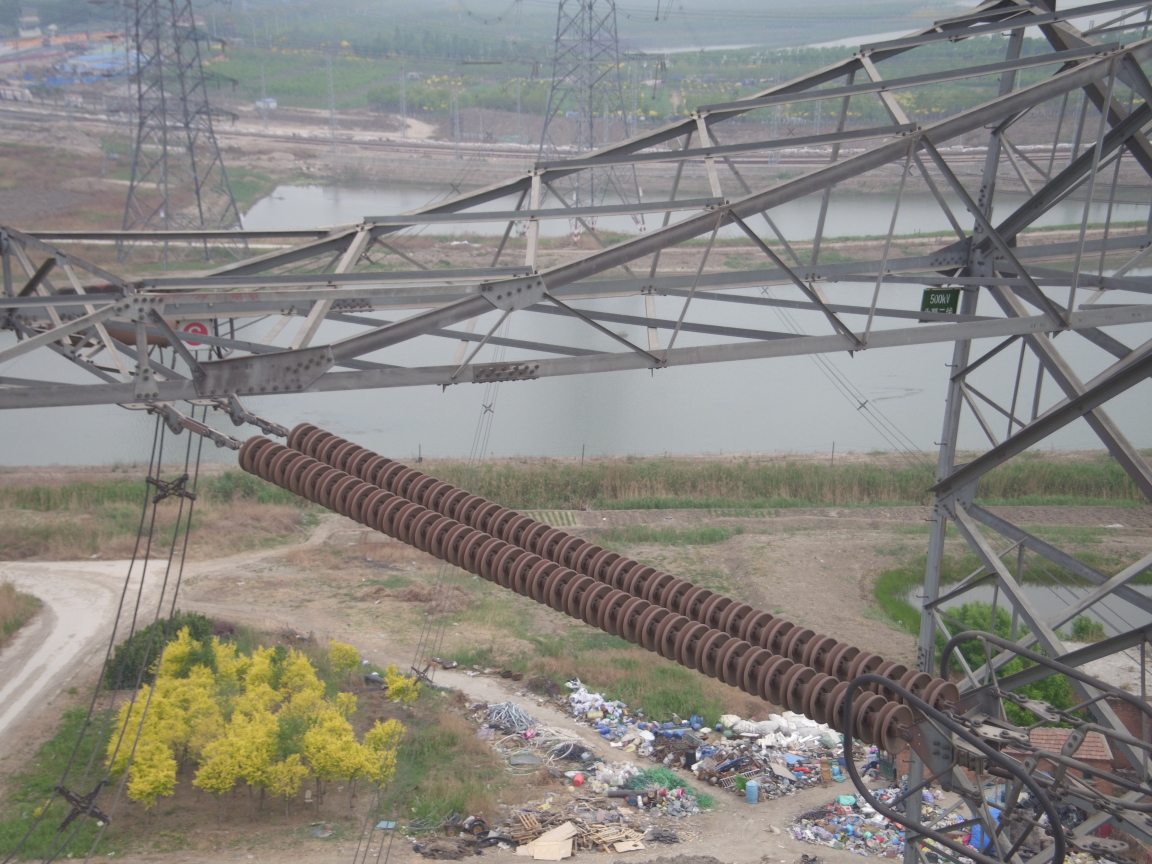insulator: (215, 411, 979, 763)
